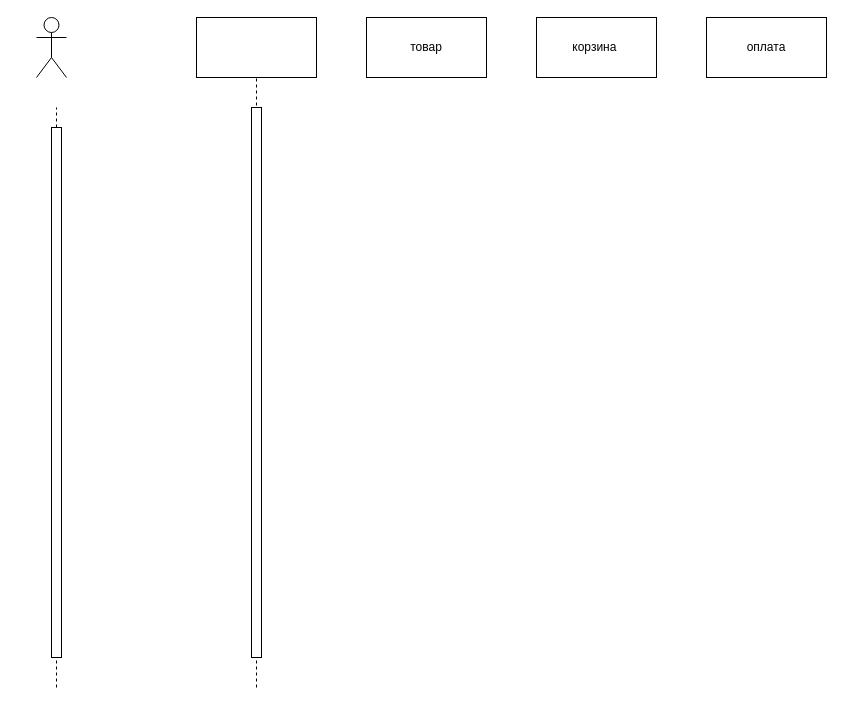
This 844x706 diagram has some shape labels left out. Here are the shapes that lost their labels. From the top down, the box of each, then its label:
(36, 16, 66, 78): Покупатель
(196, 16, 316, 78): каталог товаров
